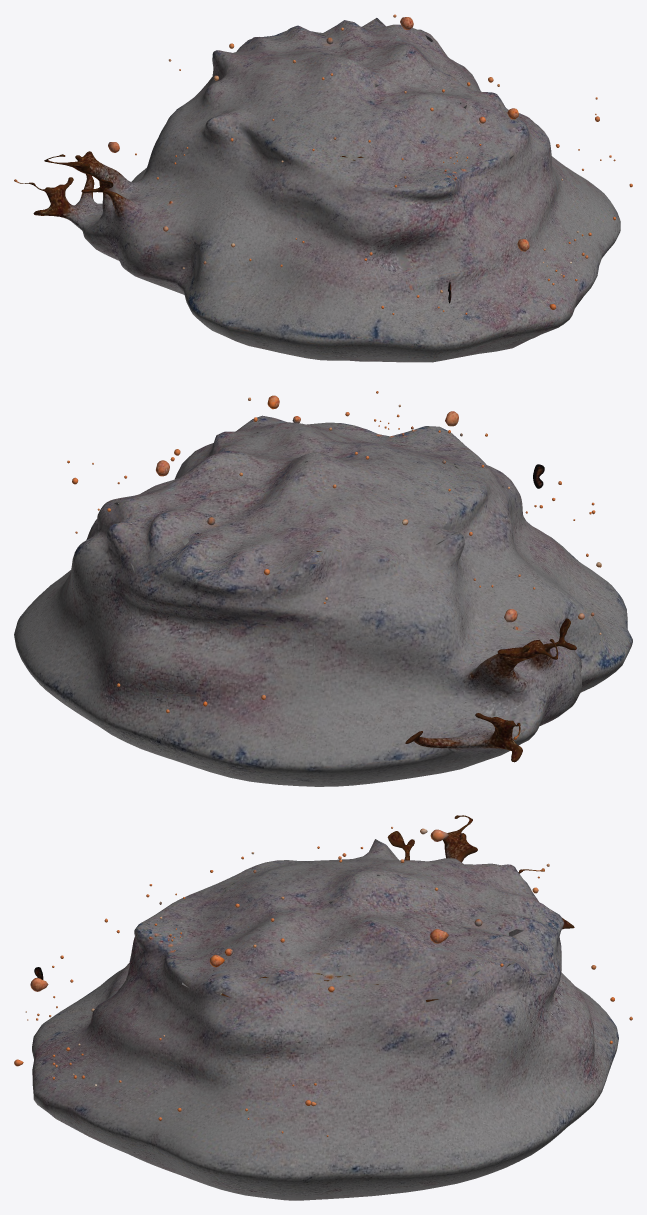
The model's file is Nebuale.glb.
3 views of the same model, one above another, from view 1: azimuth 30°, elevation 25°; view 2: azimuth 150°, elevation 25°; view 3: azimuth 270°, elevation 25° (orthographic). The views are drawn at different scales.
Visible parts, largest first — view 1: tripo_node_967acf02-3626-4539-acbc-91f52d9a14b4; view 2: tripo_node_967acf02-3626-4539-acbc-91f52d9a14b4; view 3: tripo_node_967acf02-3626-4539-acbc-91f52d9a14b4.
Part boxes in pixels (bbox=[...]): tripo_node_967acf02-3626-4539-acbc-91f52d9a14b4: bbox=[14, 14, 632, 362]; tripo_node_967acf02-3626-4539-acbc-91f52d9a14b4: bbox=[14, 391, 632, 786]; tripo_node_967acf02-3626-4539-acbc-91f52d9a14b4: bbox=[14, 815, 632, 1200].
Bounding box in the file's own units: 0.9995 × 0.4771 × 0.9985.
1 material, 1 textured.
